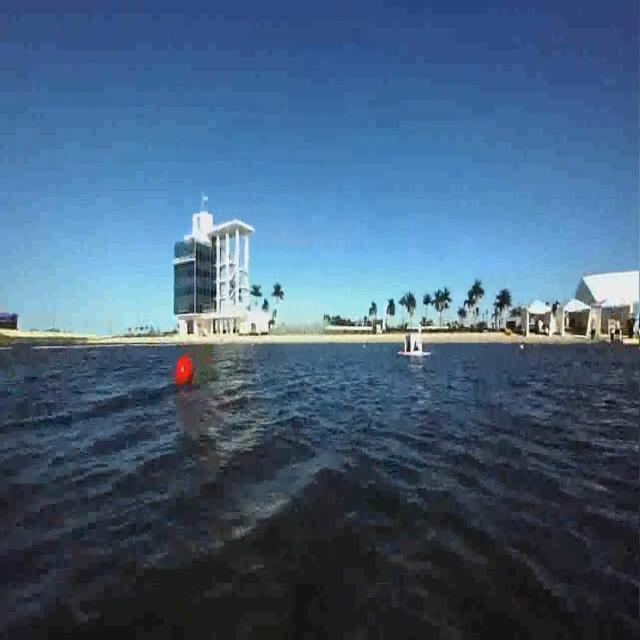red-buoy: (178, 353, 198, 387)
